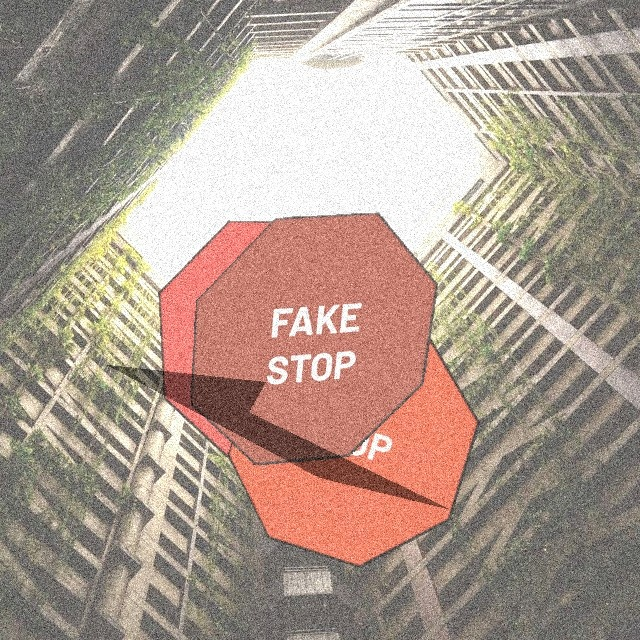FAKE_STOP: (190, 212, 438, 465)
STOP: (158, 220, 411, 472), (227, 317, 480, 568)
